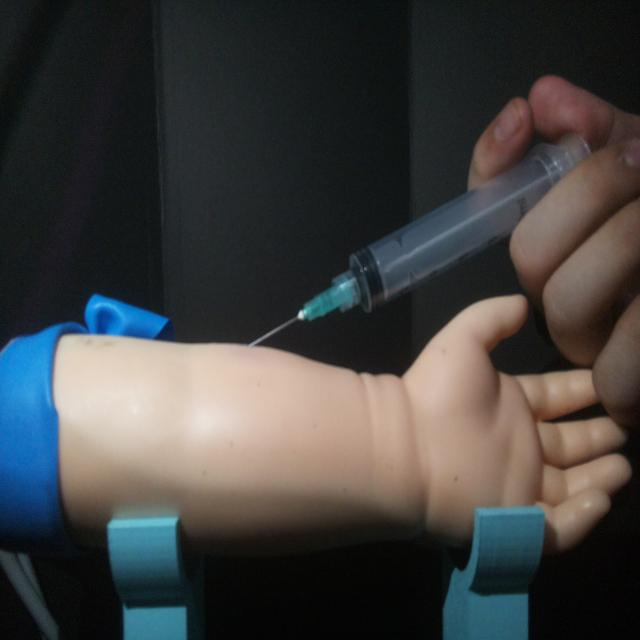25deg: (242, 126, 595, 352)
